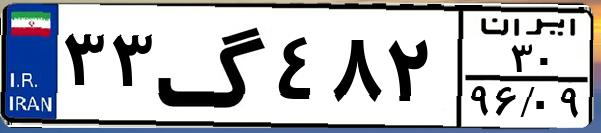0: (537, 27, 568, 80), (535, 70, 560, 125)
2: (385, 28, 445, 110)
3: (57, 26, 110, 100), (110, 28, 156, 98), (508, 27, 537, 80)
4: (270, 28, 330, 110)
6: (495, 70, 520, 125)
8: (330, 28, 385, 110)
9: (560, 70, 590, 125), (470, 70, 495, 125)
گ: (156, 12, 270, 120)
